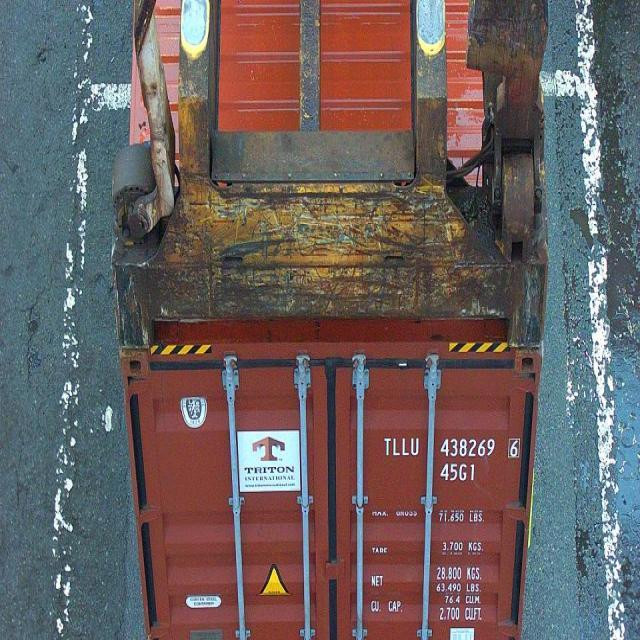ISO: (439, 462, 478, 481)
container_number: (385, 436, 521, 459)
